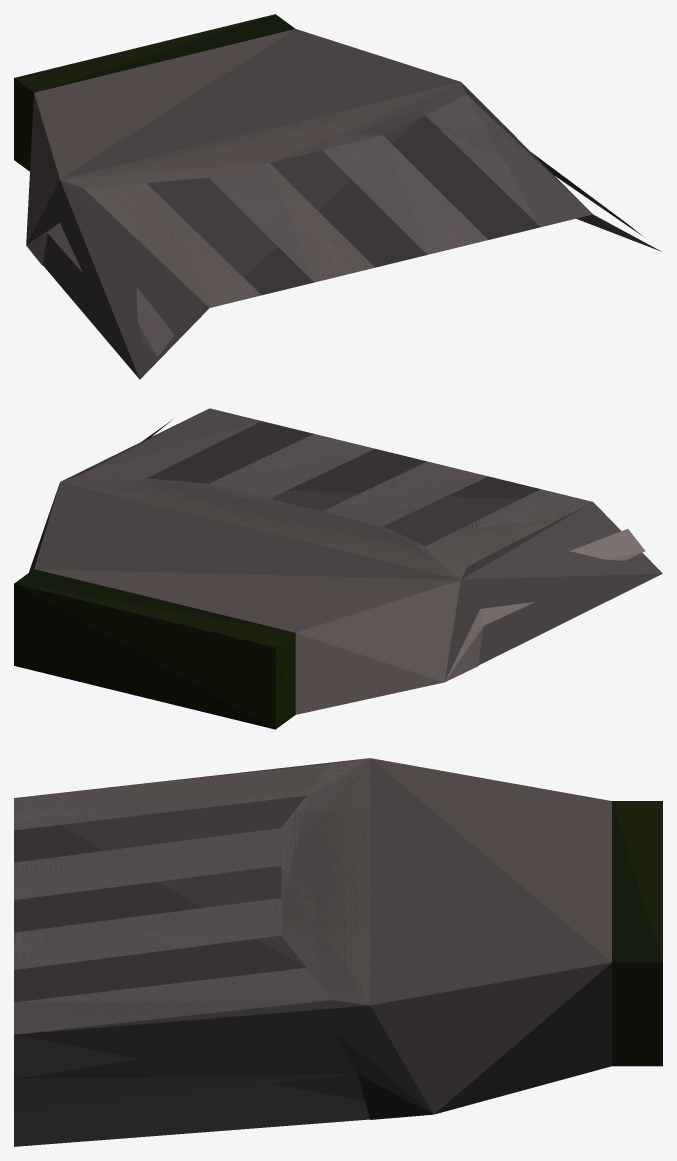
Rendered from steel-plateskirt.obj.
3 views of the same model, one above another, from view 1: azimuth 30°, elevation 25°; view 2: azimuth 150°, elevation 25°; view 3: azimuth 270°, elevation 25° (orthographic). The views are drawn at different scales.
Visible parts, largest first — view 1: Item Steel plateskirt 2026-09-24_18-12-33; view 2: Item Steel plateskirt 2026-09-24_18-12-33; view 3: Item Steel plateskirt 2026-09-24_18-12-33.
Part boxes in pixels (box(x1,y1,x2,y2)): Item Steel plateskirt 2026-09-24_18-12-33: box(14, 14, 661, 379); Item Steel plateskirt 2026-09-24_18-12-33: box(14, 408, 662, 729); Item Steel plateskirt 2026-09-24_18-12-33: box(14, 758, 662, 1146).
Size of the model in its own units: 60 by 9 by 51.
